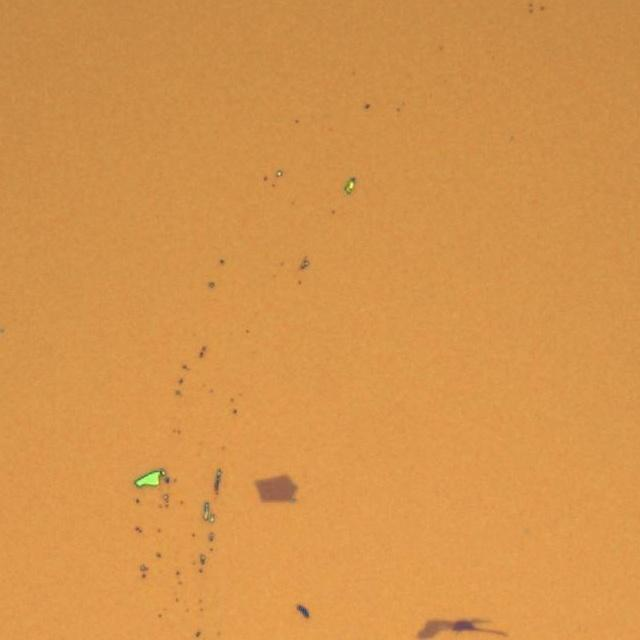monolayer-eWW4: (253, 473, 298, 502), (416, 615, 454, 640)
